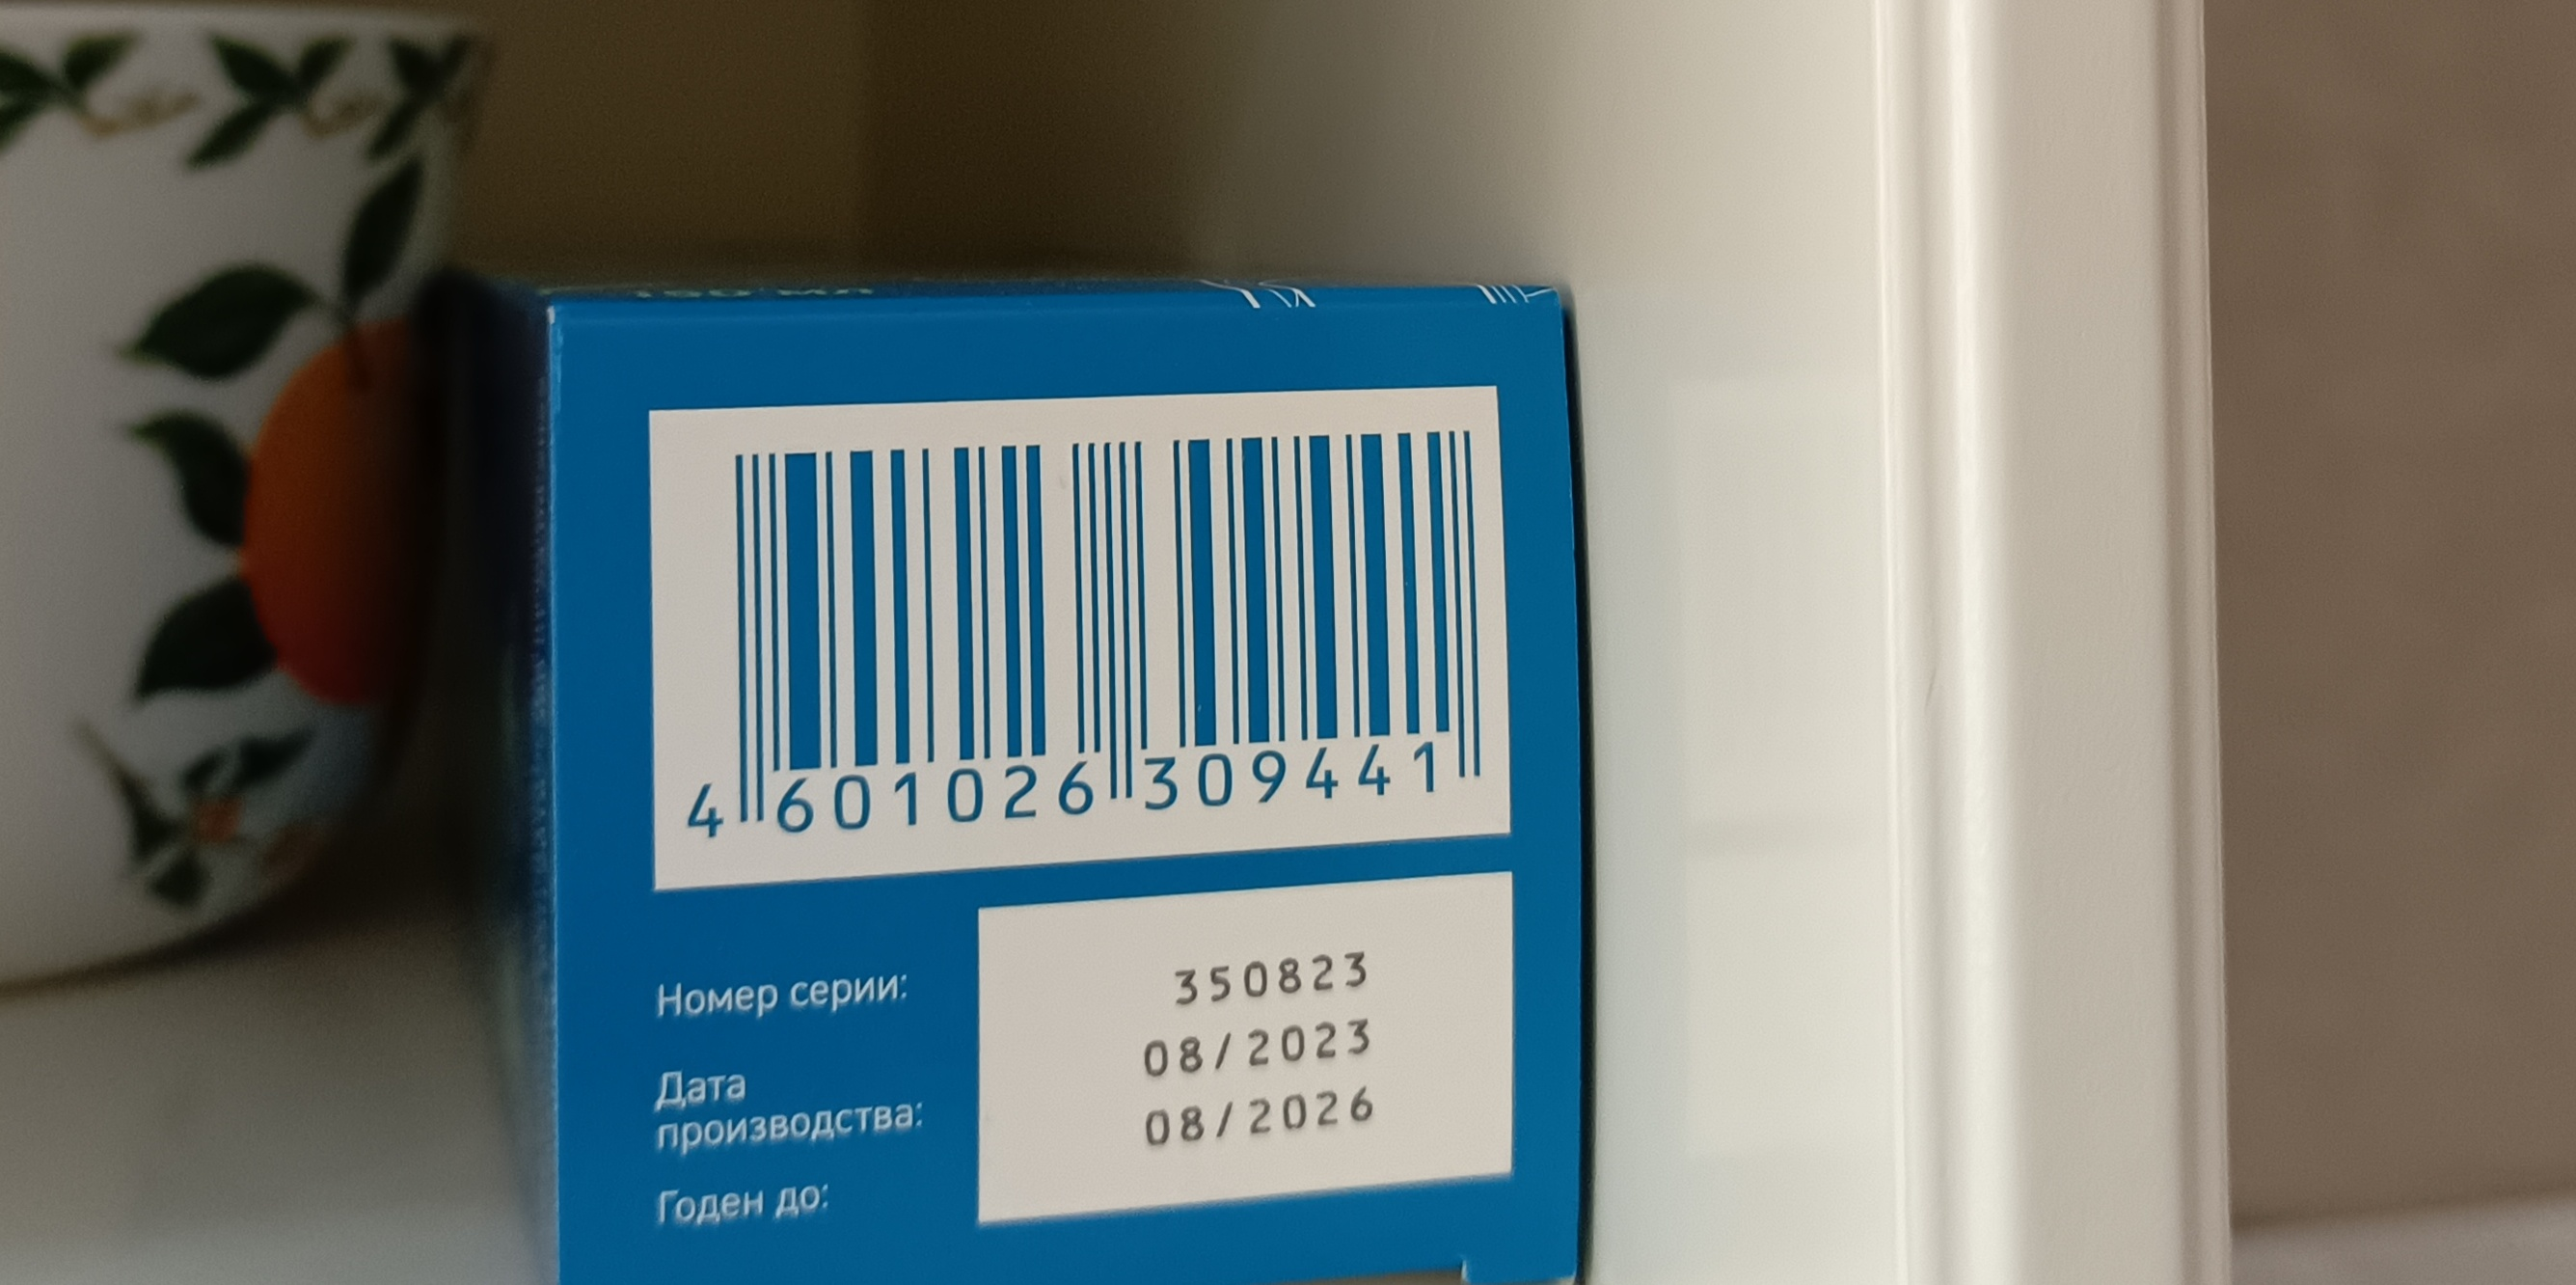1d: (733, 426, 1485, 771)
